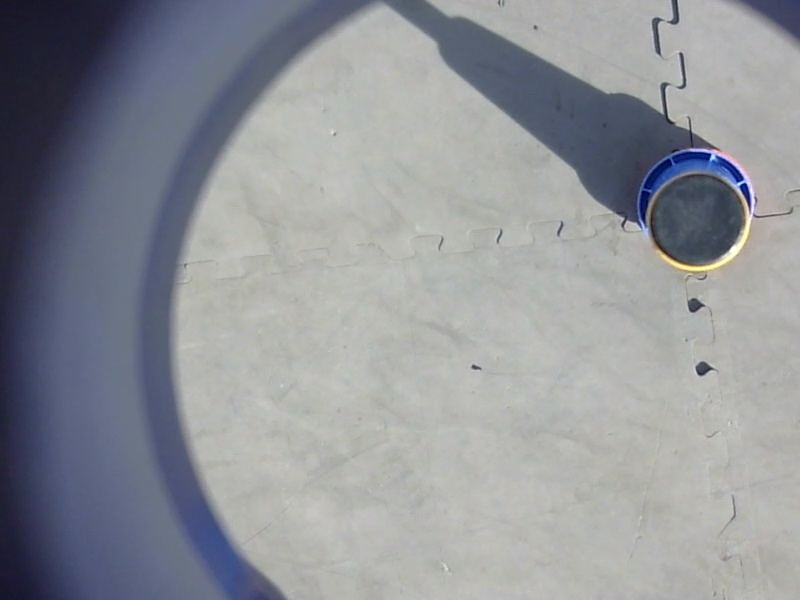tip: (640, 167, 757, 281)
